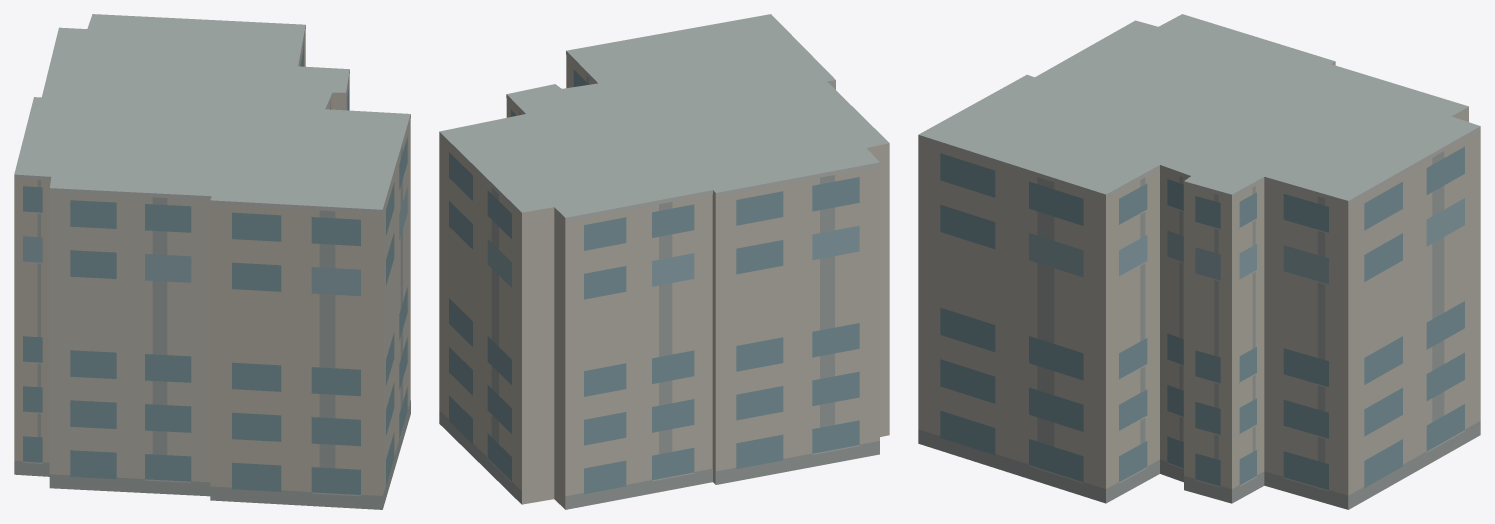
Rendered from survey-upis-32656894.glb.
3 renders of one model, left to right at view 1: azimuth 30°, elevation 25°; view 2: azimuth 150°, elevation 25°; view 3: azimuth 270°, elevation 25°, orthographic. The views are drawn at different scales.
Parts seen in each view (by area): view 1: survey-upis-32656894.tmp; view 2: survey-upis-32656894.tmp; view 3: survey-upis-32656894.tmp.
Part boxes in pixels (x1,y1,x2,y2): survey-upis-32656894.tmp: (14,14,410,509); survey-upis-32656894.tmp: (439,14,889,509); survey-upis-32656894.tmp: (918,14,1480,509).
Size of the model in its own units: 22.98 by 17.7 by 29.21.
